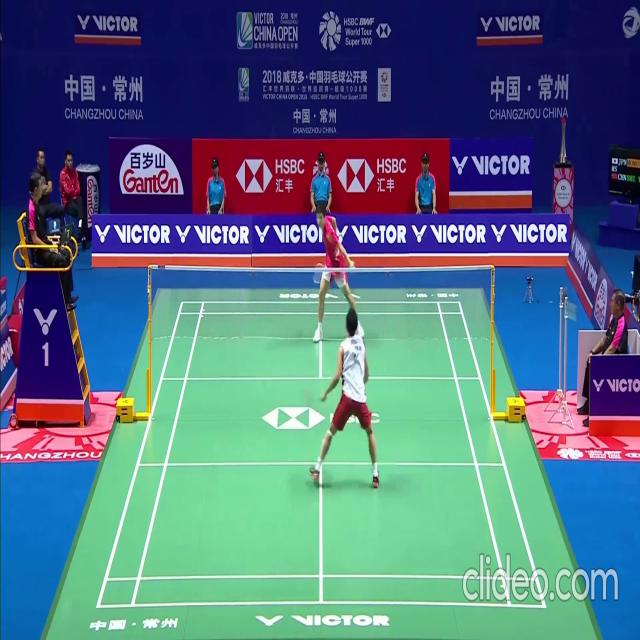Shuttlecock: (305, 230, 310, 237)
